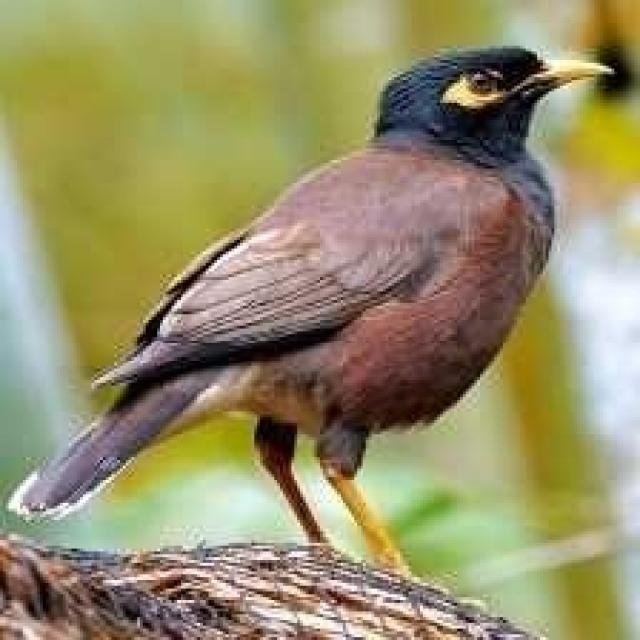bird: (4, 36, 617, 599)
